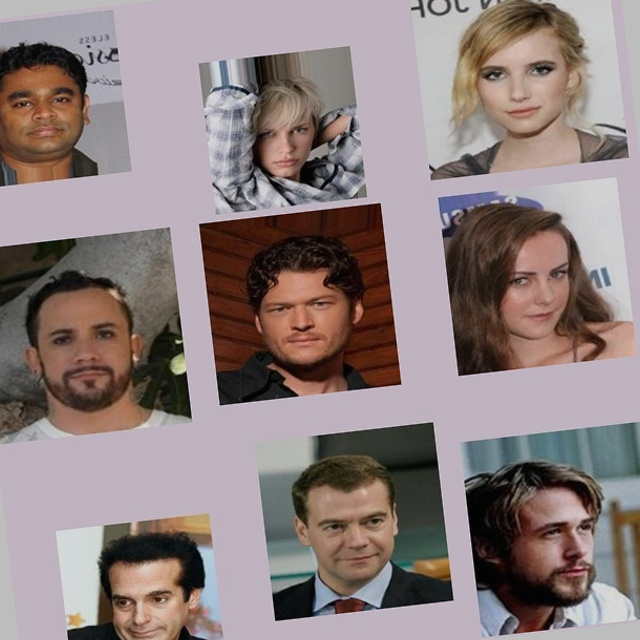celeb_1212: (203, 199, 405, 401)
celeb_2336: (0, 466, 168, 637)
celeb_2619: (208, 425, 407, 623)
celeb_2970: (459, 11, 640, 232)
celeb_3: (0, 173, 195, 391)
celeb_4422: (442, 228, 640, 426)
celeb_7: (9, 0, 189, 133)
celeb_797: (243, 43, 411, 211)
celeb_8335: (406, 471, 623, 640)
